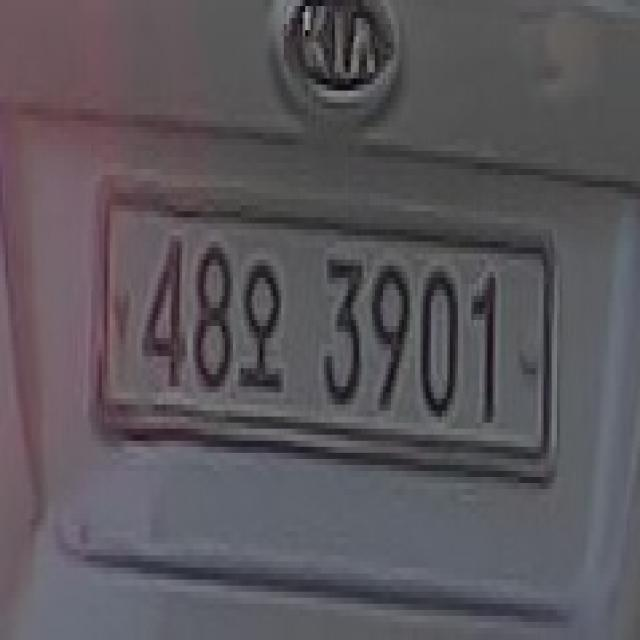0: (418, 264, 464, 430)
1: (467, 266, 505, 437)
3: (319, 239, 363, 424)
4: (133, 220, 187, 416)
8: (190, 234, 234, 406)
9: (369, 258, 414, 426)
license_plate: (86, 147, 569, 523)
o: (238, 244, 284, 421)
